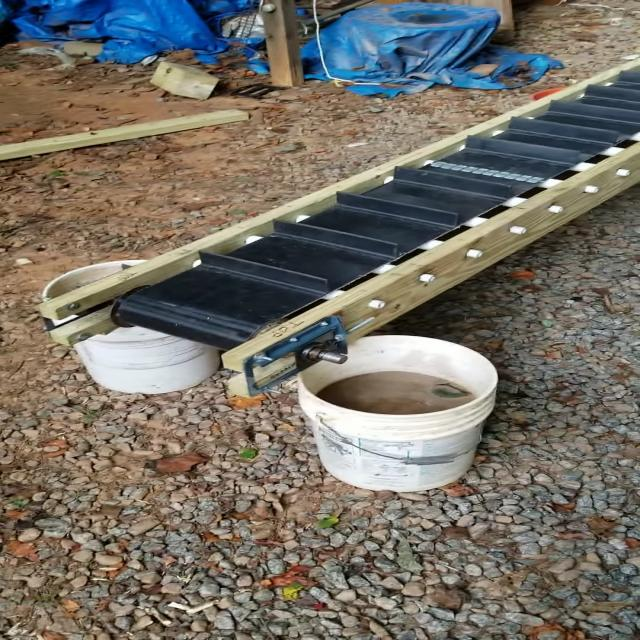Convoyeur: (19, 51, 640, 394)
